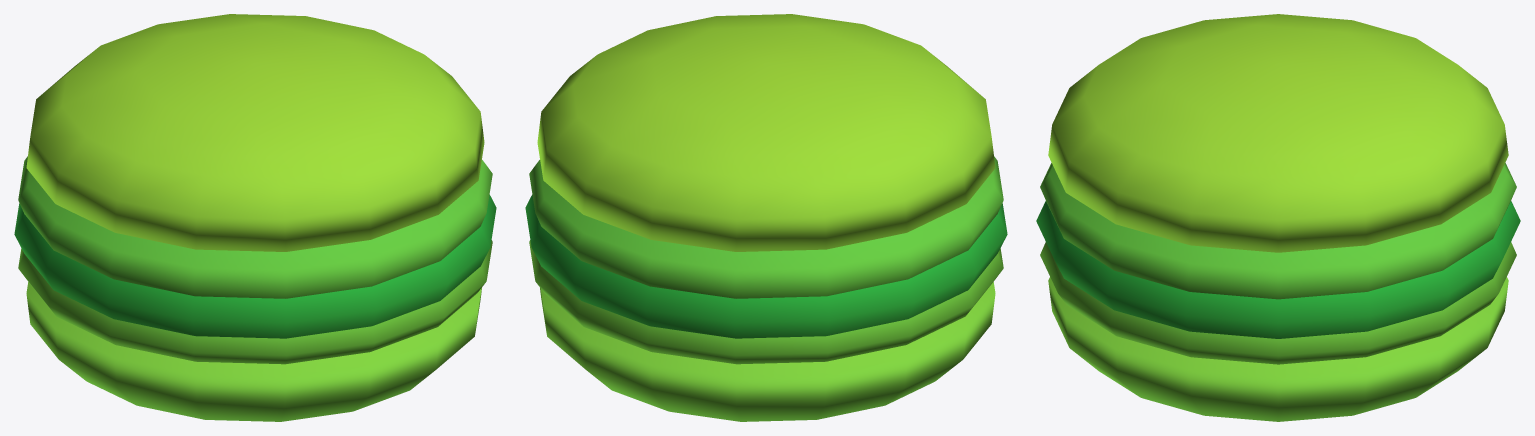
File: Cookie_05.glb
The picture shows the model from 3 angles, left to right: view 1: azimuth 30°, elevation 25°; view 2: azimuth 150°, elevation 25°; view 3: azimuth 270°, elevation 25°; orthographic projection.
Parts seen in each view (by area): view 1: Cookie_05; view 2: Cookie_05; view 3: Cookie_05.
Part boxes in pixels (<box>): Cookie_05: <box>14,14,496,421</box>; Cookie_05: <box>525,14,1007,421</box>; Cookie_05: <box>1036,14,1520,421</box>.
Bounding box in the file's own units: 2.05 × 1.44 × 2.05.
1 material, 1 textured.
